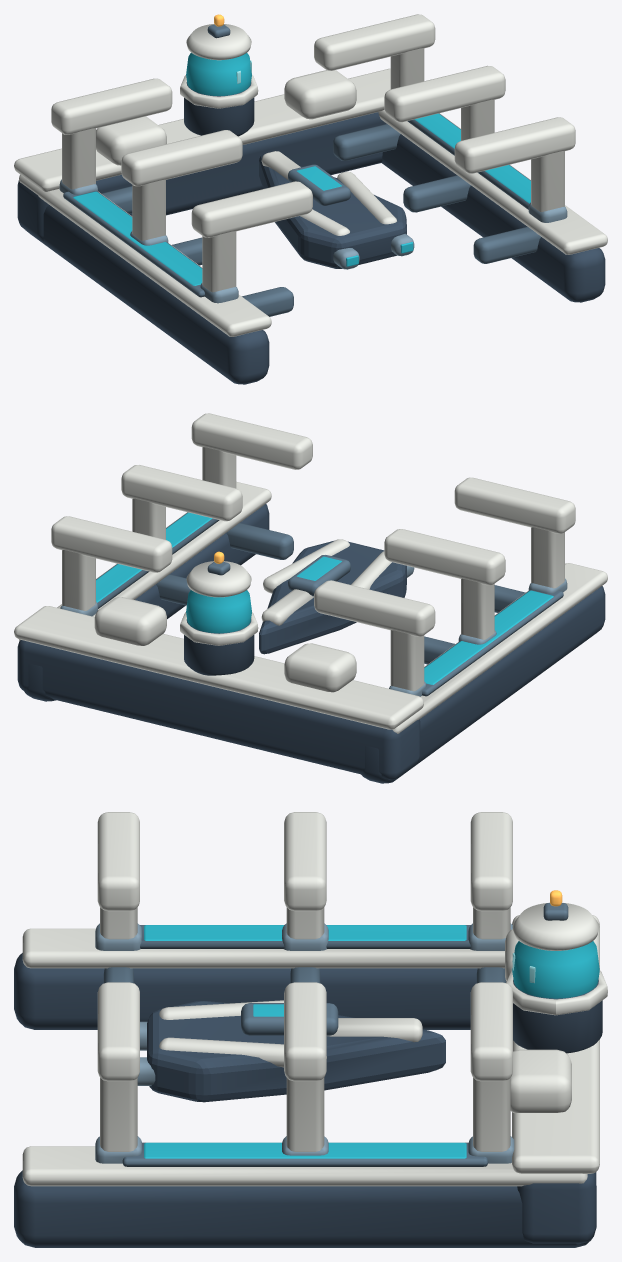
The model's file is orbital_shipyard_lv4.glb.
3 renders of one model, top to bottom at view 1: azimuth 30°, elevation 25°; view 2: azimuth 150°, elevation 25°; view 3: azimuth 270°, elevation 25°, orthographic. The views are drawn at different scales.
Parts seen in each view (by area): view 1: Structure; view 2: Structure; view 3: Structure.
Boxes of the visible parts, <box> form: Structure: <box>14,14,607,384</box>; Structure: <box>14,413,607,783</box>; Structure: <box>14,812,607,1247</box>.
Bounding box in the file's own units: 8.54 × 3.89 × 8.66.
